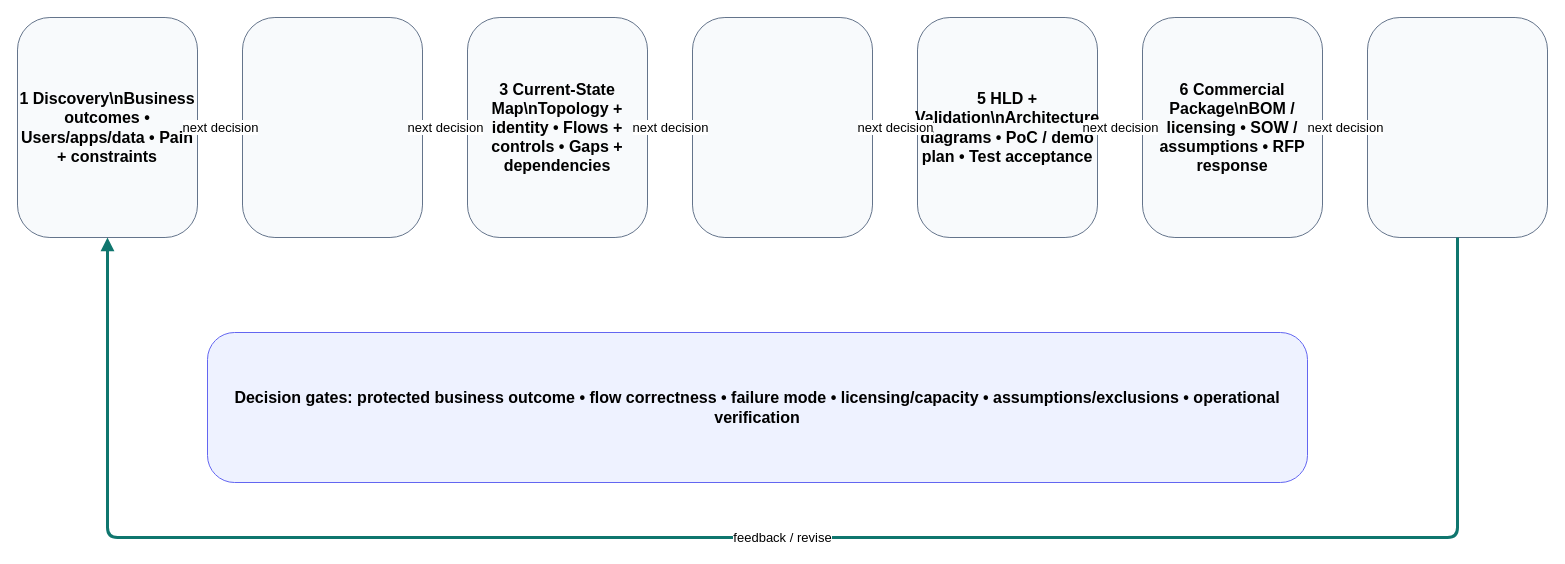
The diagram is 1565 pixels wide and 564 high, and some of its shapes have lost their labels. The box of each missing label's shape, as (x1, y1, x2, y2) in pixels:
2 Risk & Requirements\nThreats + compliance • NFRs / SLAs • Success criteria: (242, 16, 422, 238)
4 Option Design\n2–3 viable patterns • Tradeoffs / TCO • HA + operations: (692, 16, 872, 238)
7 Handoff & Operate\nLLD / runbooks • KPIs / observability • Optimization: (1366, 16, 1548, 238)
